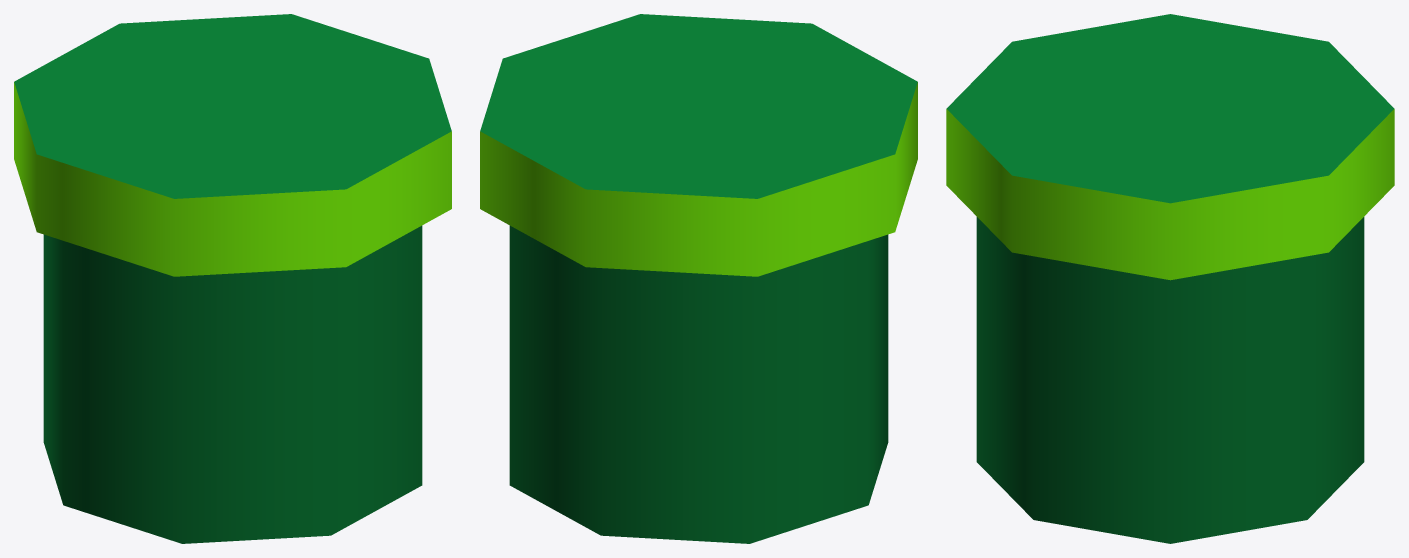
The model's file is Container1.fbx.
The picture shows the model from 3 angles, left to right: view 1: azimuth 30°, elevation 25°; view 2: azimuth 150°, elevation 25°; view 3: azimuth 270°, elevation 25°; orthographic projection.
Visible parts, largest first — view 1: Container1; view 2: Container1; view 3: Container1.
Boxes of the visible parts, <box> form: Container1: <box>14,14,451,543</box>; Container1: <box>480,14,917,543</box>; Container1: <box>946,14,1394,543</box>.
Bounding box in the file's own units: 14.06 × 12.24 × 14.06.
